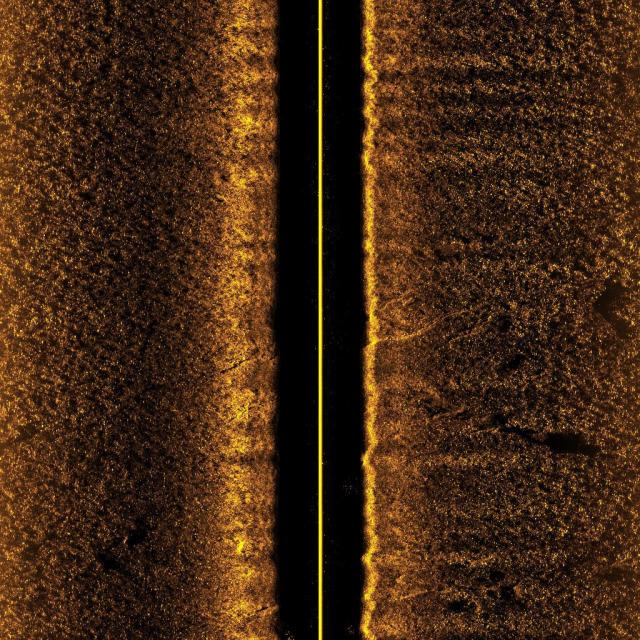other: (110, 535, 128, 544)
